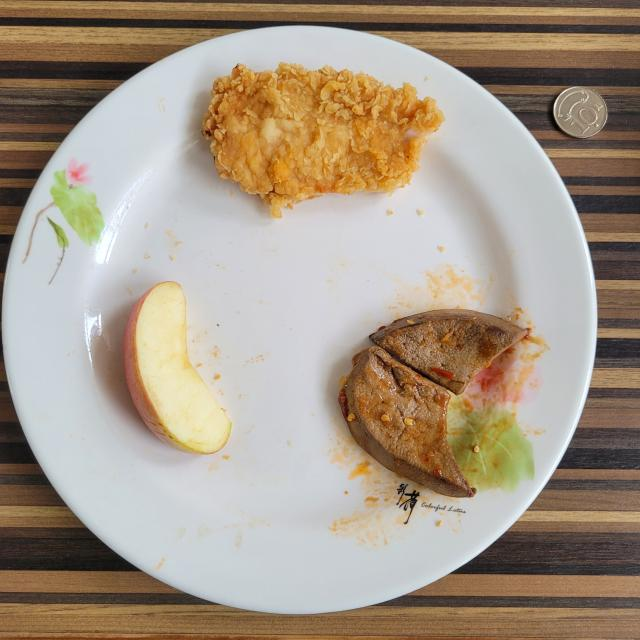apple -sliced-: (124, 281, 231, 454)
coin: (554, 86, 608, 139)
fried chicken cutlet: (202, 62, 444, 218)
pig liver: (338, 309, 529, 498)
